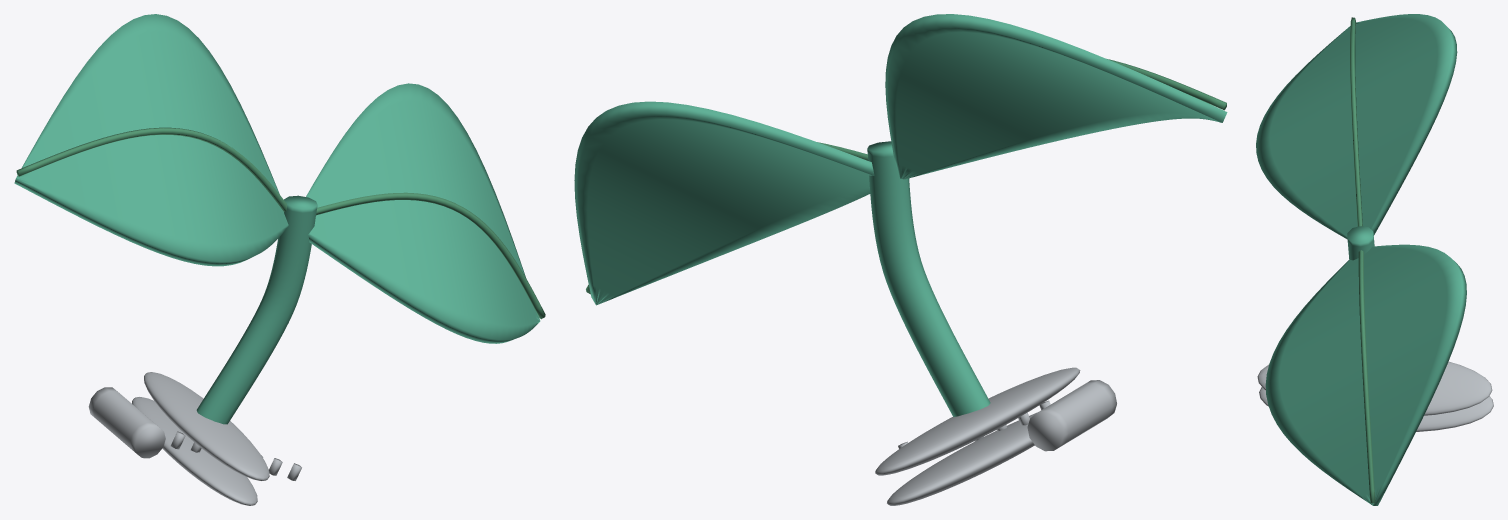
File: Masculine-sidepart--ears-sprout.glb
3 views of the same model, side by side, from view 1: azimuth 30°, elevation 25°; view 2: azimuth 150°, elevation 25°; view 3: azimuth 270°, elevation 25° (orthographic). The views are drawn at different scales.
Visible parts, largest first — view 1: 226 extra / Accessory / mint226, 226 extra / Sprout / clip silver235, 226 extra / Sprout / leaf vein235; view 2: 226 extra / Accessory / mint226, 226 extra / Sprout / clip silver235, 226 extra / Sprout / leaf vein235; view 3: 226 extra / Accessory / mint226, 226 extra / Sprout / clip silver235, 226 extra / Sprout / leaf vein235.
Part boxes in pixels (left/top/right/bottom): 226 extra / Accessory / mint226: left=14, top=14, right=540, bottom=424; 226 extra / Sprout / clip silver235: left=88, top=372, right=301, bottom=505; 226 extra / Sprout / leaf vein235: left=16, top=127, right=545, bottom=319; 226 extra / Accessory / mint226: left=574, top=14, right=1227, bottom=416; 226 extra / Sprout / clip silver235: left=875, top=367, right=1116, bottom=505; 226 extra / Sprout / leaf vein235: left=586, top=59, right=1226, bottom=294; 226 extra / Accessory / mint226: left=1256, top=14, right=1466, bottom=505; 226 extra / Sprout / clip silver235: left=1257, top=361, right=1493, bottom=431; 226 extra / Sprout / leaf vein235: left=1350, top=17, right=1375, bottom=503.
Size of the model in its own units: 0.2434 by 0.1929 by 0.1043.
